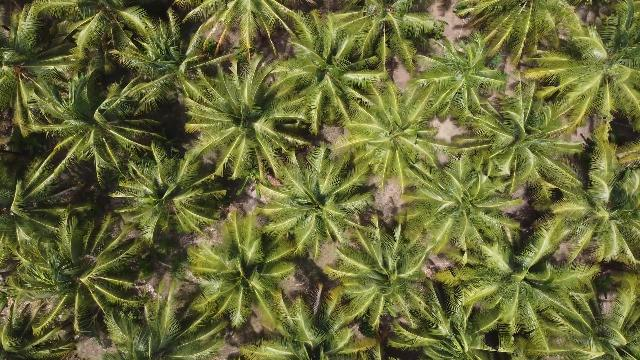trees: (4, 203, 156, 354), (19, 61, 171, 189), (183, 54, 306, 191), (520, 11, 638, 143), (531, 135, 636, 275), (261, 148, 375, 266), (407, 154, 525, 266), (347, 80, 453, 201), (527, 272, 638, 359), (399, 277, 514, 360), (247, 287, 370, 360), (418, 34, 509, 127), (185, 2, 306, 66), (455, 3, 577, 66), (1, 2, 91, 77), (109, 11, 189, 86), (379, 5, 444, 68)
